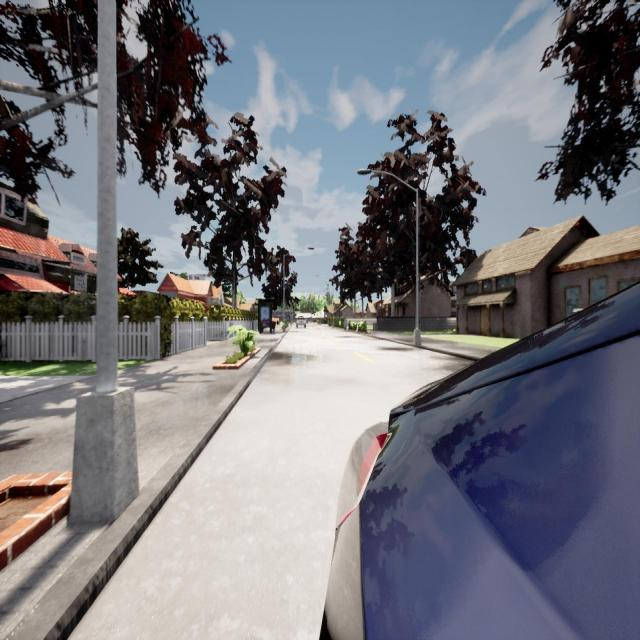Vehicle: (318, 283, 640, 640), (296, 315, 306, 330)
